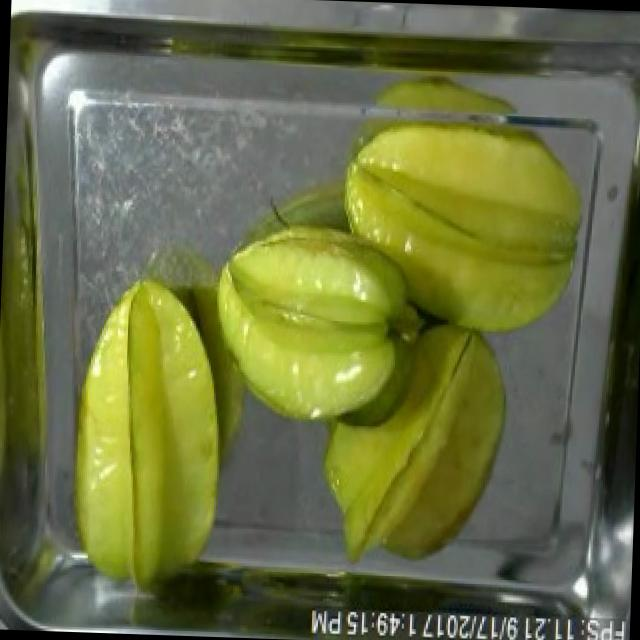fruit: (326, 104, 600, 350), (51, 264, 248, 602), (306, 302, 524, 578), (196, 209, 418, 437)
